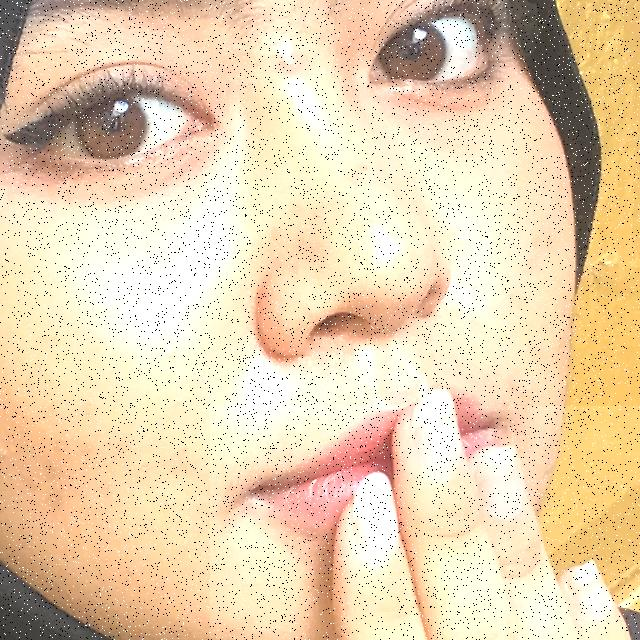ganteng: (210, 406, 640, 640)
